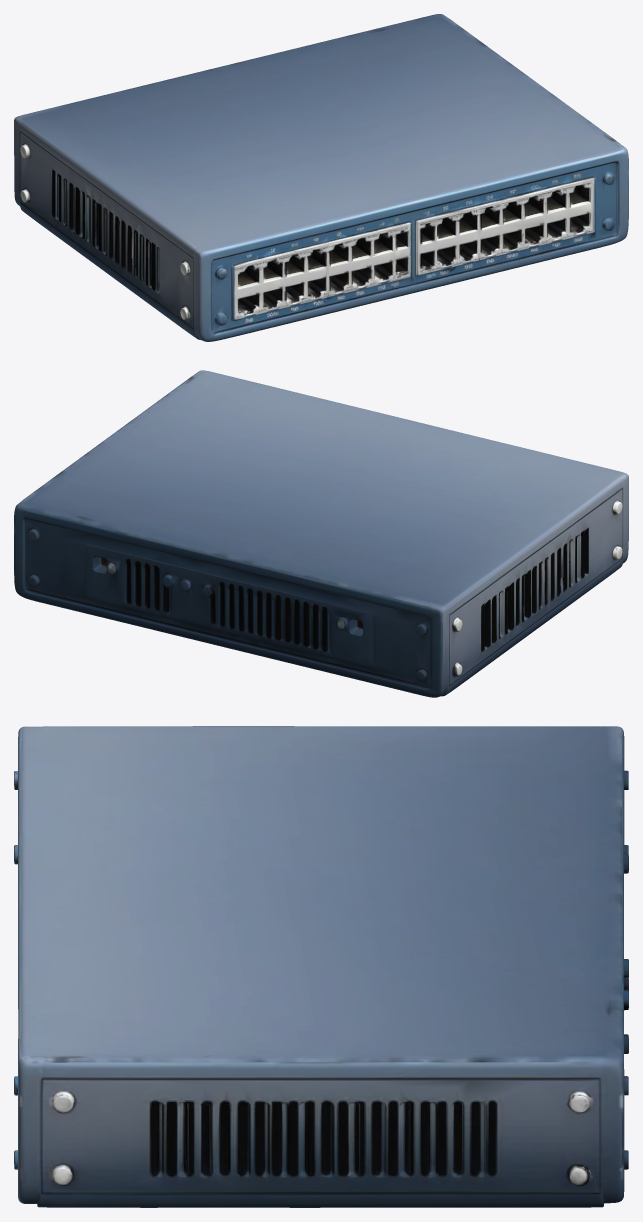
The model's file is 交换机.glb.
3 views of the same model, one above another, from view 1: azimuth 30°, elevation 25°; view 2: azimuth 150°, elevation 25°; view 3: azimuth 270°, elevation 25° (orthographic). The views are drawn at different scales.
Parts seen in each view (by area): view 1: node_0; view 2: node_0; view 3: node_0.
Boxes of the visible parts, <box> form: node_0: <box>14,14,628,341</box>; node_0: <box>14,370,628,697</box>; node_0: <box>14,726,628,1207</box>.
Bounding box in the file's own units: 0.9633 × 0.2051 × 0.7287.
Materials: 1 (1 with a texture image).
